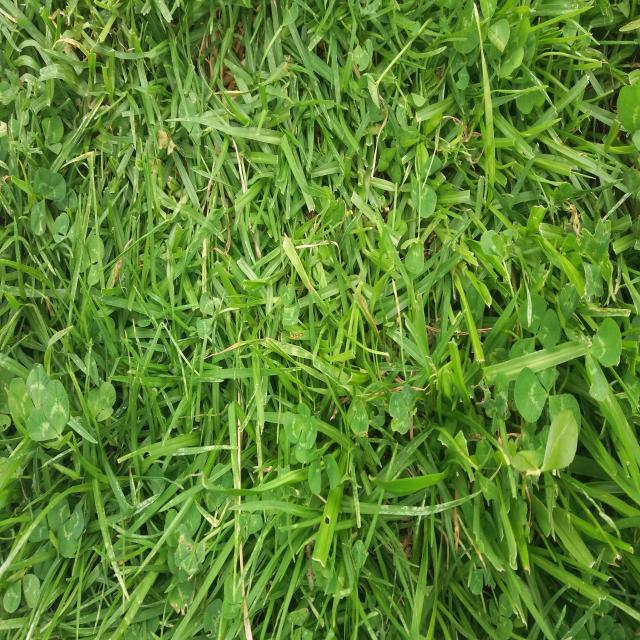Four Leaf Clover: (283, 403, 317, 463), (389, 383, 417, 434)
